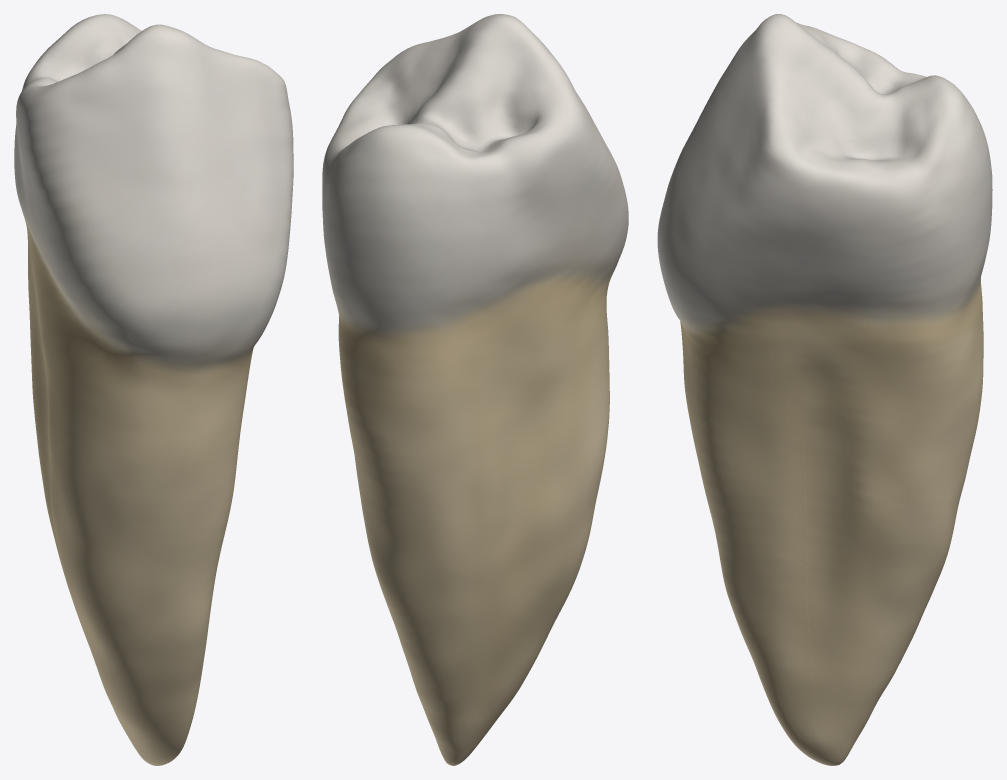
3 views of the same model, side by side, from view 1: azimuth 30°, elevation 25°; view 2: azimuth 150°, elevation 25°; view 3: azimuth 270°, elevation 25° (orthographic). The views are drawn at different scales.
Parts seen in each view (by area): view 1: t34; view 2: t34; view 3: t34.
Part boxes in pixels (bbox=[...]): t34: bbox=[14, 14, 293, 765]; t34: bbox=[322, 14, 628, 765]; t34: bbox=[657, 14, 992, 765].
Bounding box in the file's own units: 7.61 × 22.5 × 9.27.
1 material, 1 textured.
